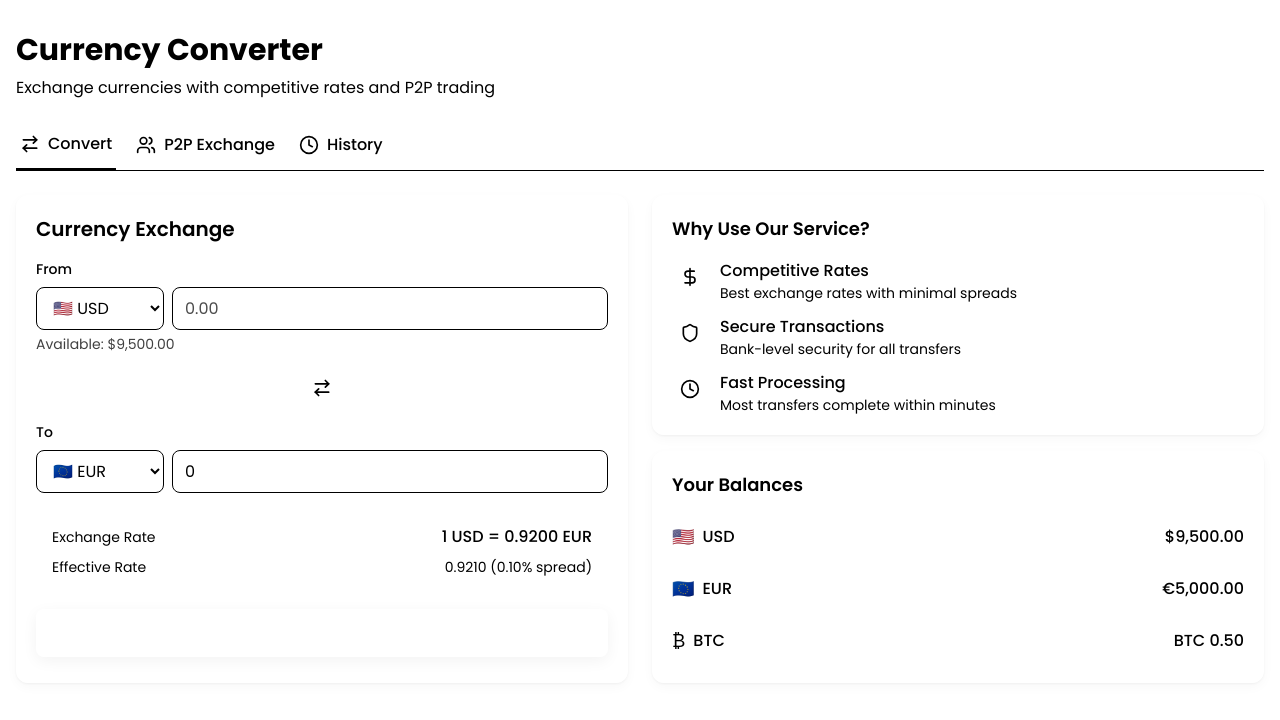
CurrencyConverterPage › currency conversion form works correctly
This screenshot has width=1280, height=720.
Expected: the heading "Currency Exchange" is shown, [36,215,235,243]
# Enter amount
Type "1000" into the number field with placeholder "0.00". click: {"x": 390, "y": 308}
box: [172,287,608,330]
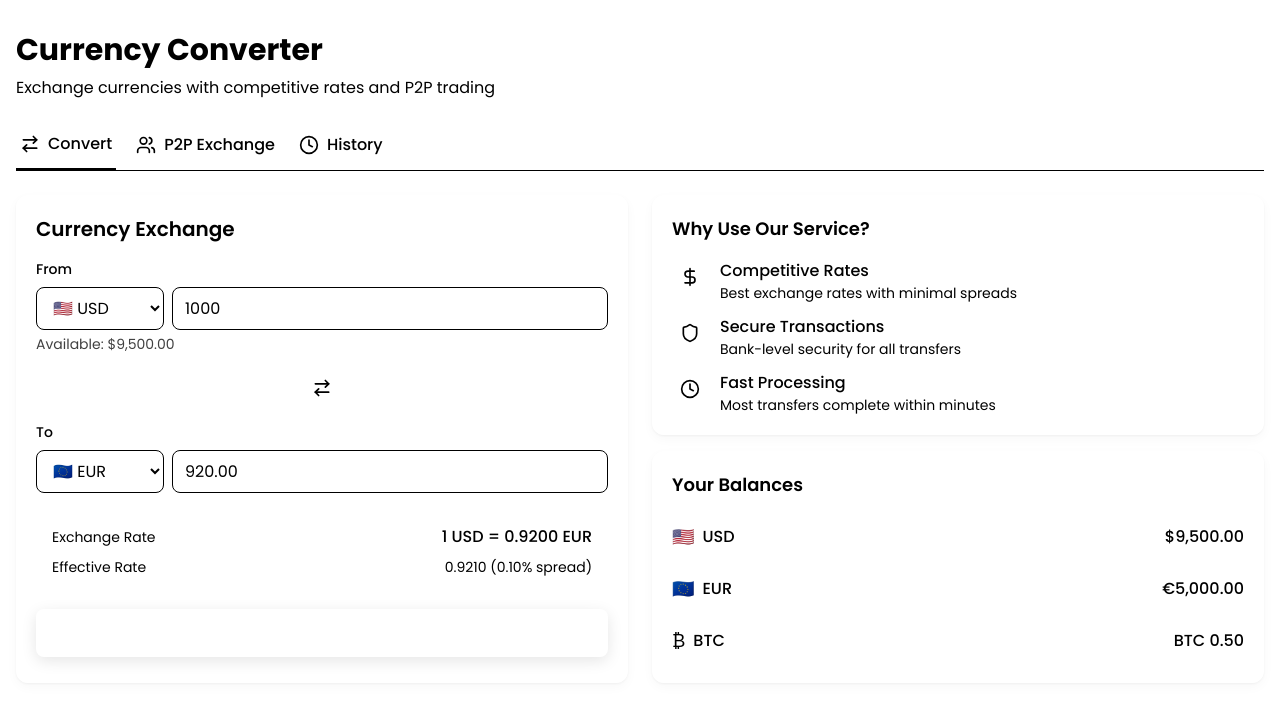
Expected: the text "1 USD = 0.9200 EUR" is shown, [442,525,592,549]
Expected: the field showing "920.00" is shown, [172,450,608,493]
